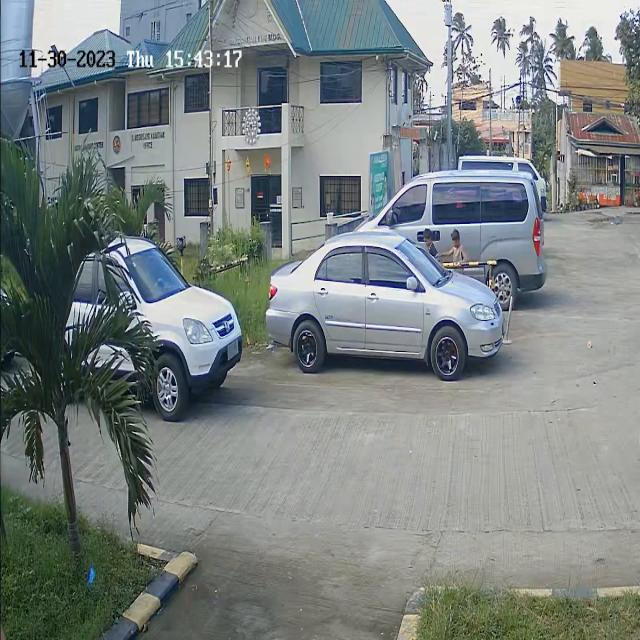person: (448, 230, 467, 276)
